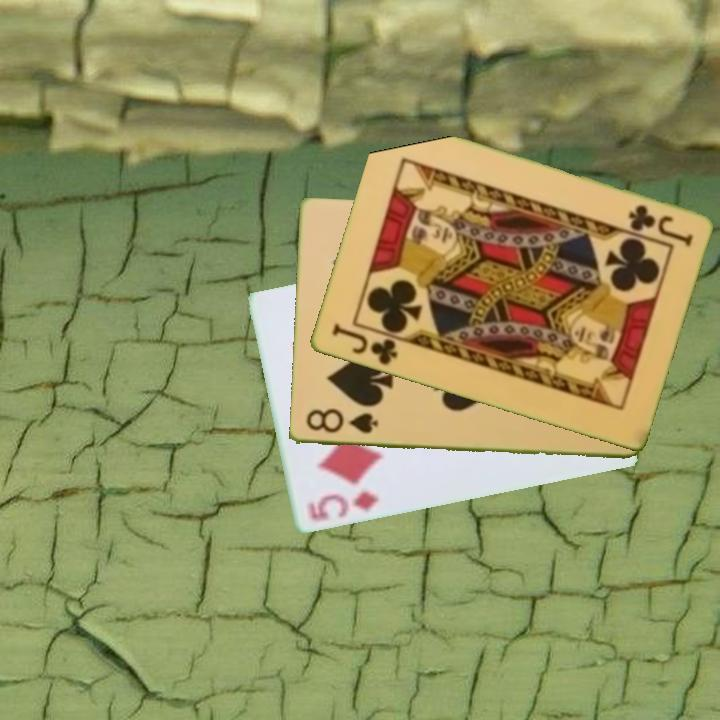5d: (304, 488, 381, 526)
8s: (302, 407, 380, 437)
Jc: (327, 320, 401, 369), (624, 201, 695, 249)
